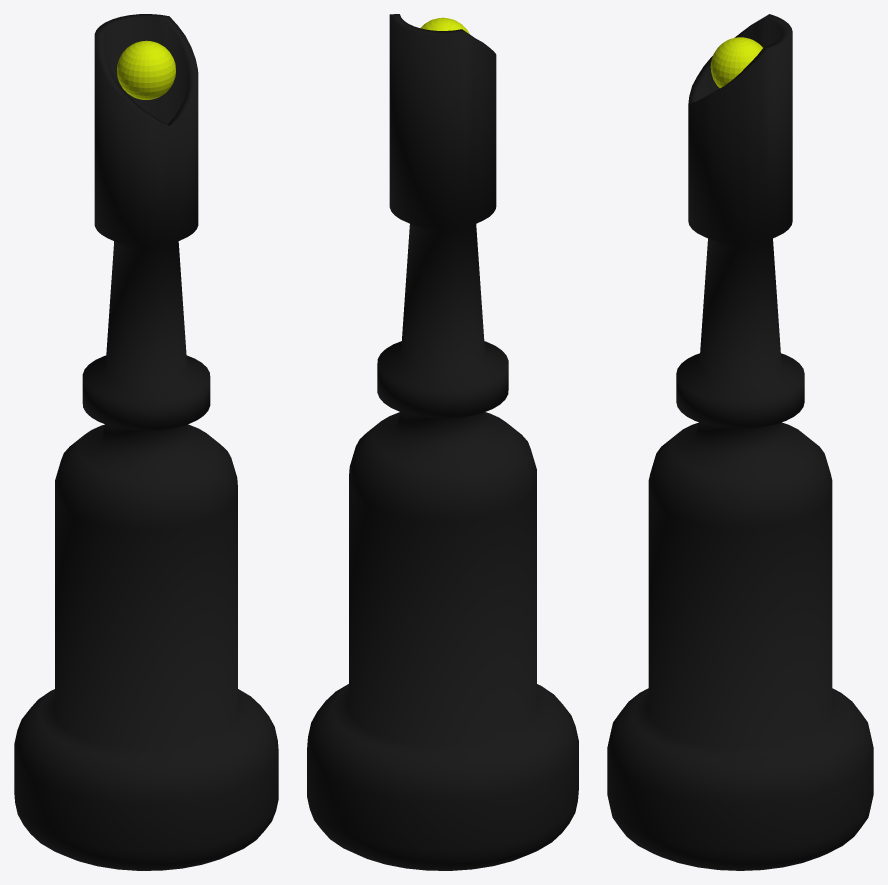
The model's file is Tower.fbx.
3 renders of one model, left to right at view 1: azimuth 30°, elevation 25°; view 2: azimuth 150°, elevation 25°; view 3: azimuth 270°, elevation 25°, orthographic. The views are drawn at different scales.
Visible parts, largest first — view 1: OilDiffusorBody, OilDiffusorHead; view 2: OilDiffusorBody; view 3: OilDiffusorBody, OilDiffusorHead.
Boxes of the visible parts, x1,y1,x2,y2 form: OilDiffusorBody: (14,14,278,870); OilDiffusorHead: (117,40,175,99); OilDiffusorBody: (307,14,578,870); OilDiffusorBody: (607,14,873,870); OilDiffusorHead: (710,37,762,88).
Size of the model in its own units: 200 by 658 by 200.
